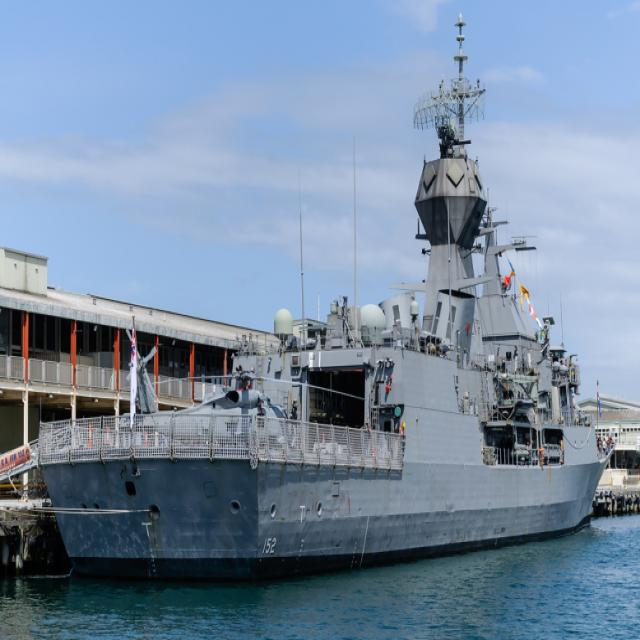Fragata: (35, 6, 620, 593)
